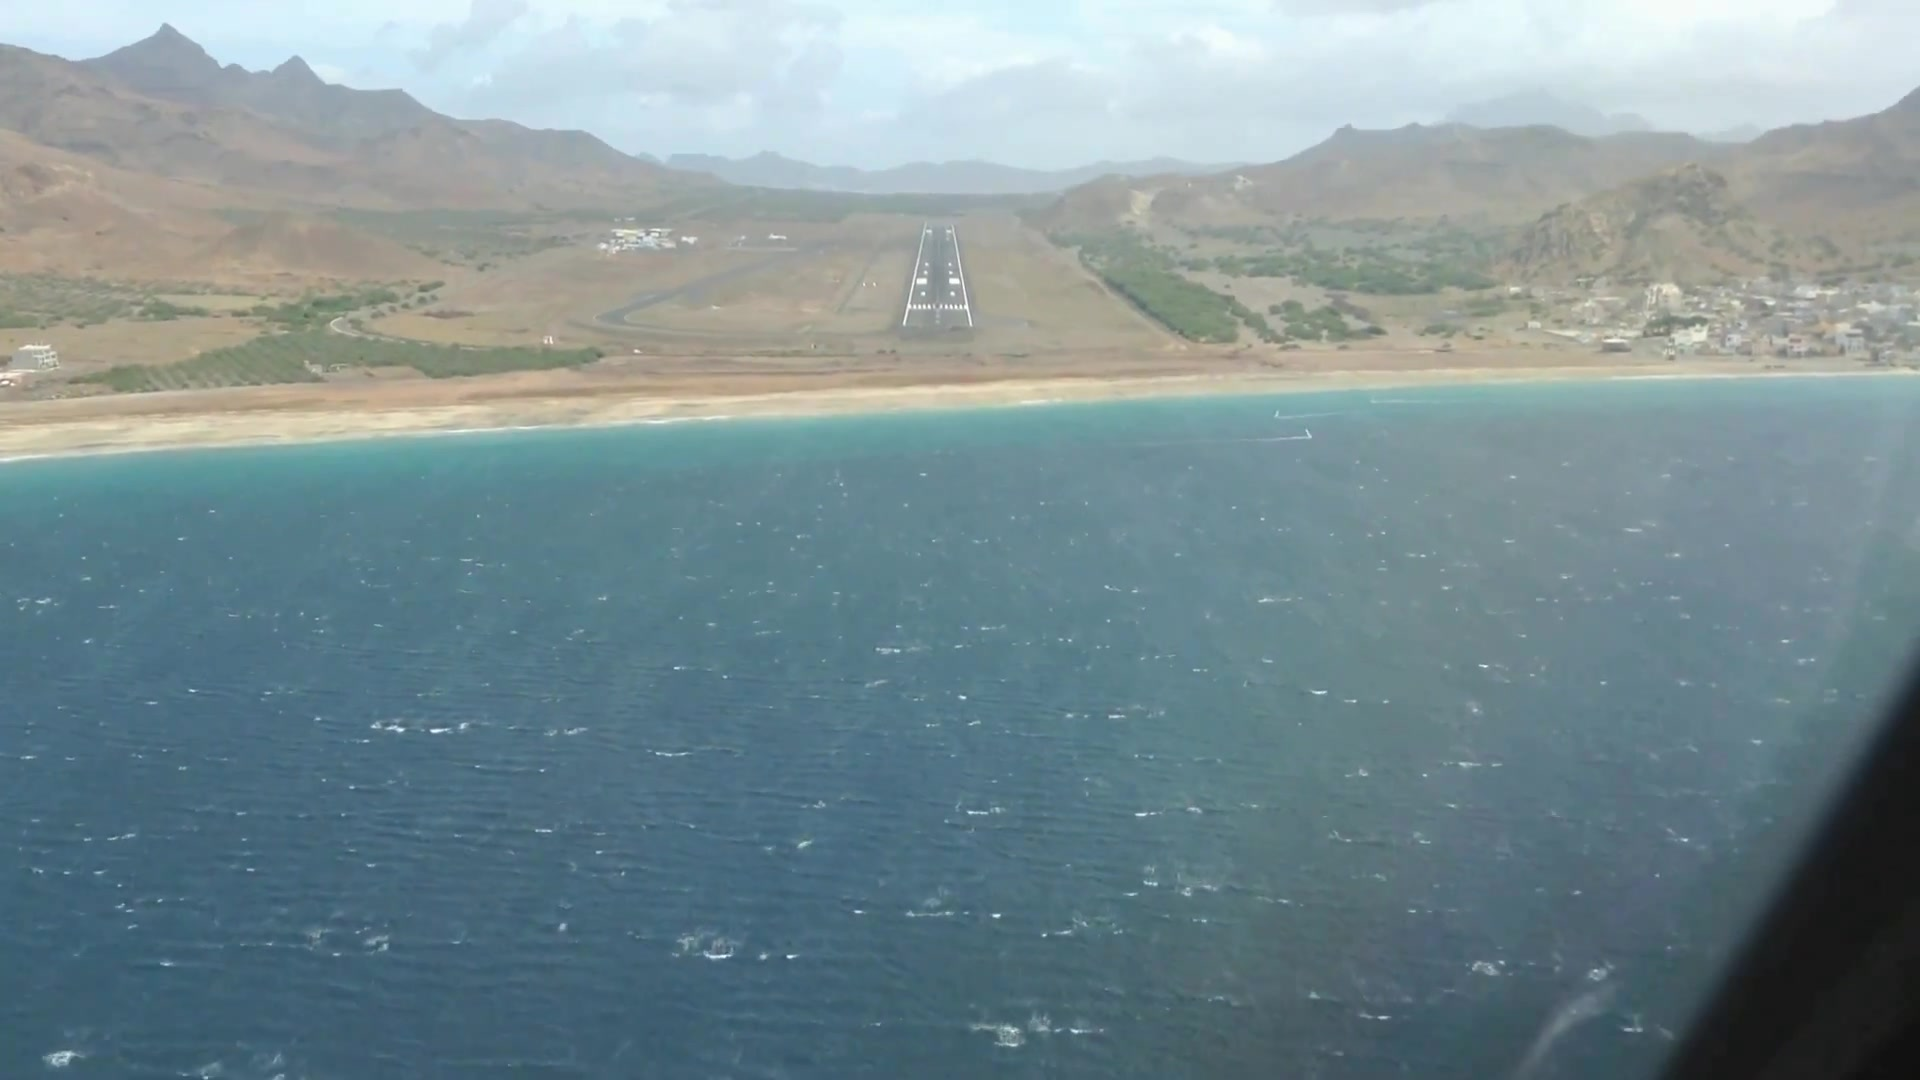entrance: (906, 302, 968, 311)
runway: (901, 220, 975, 328)
